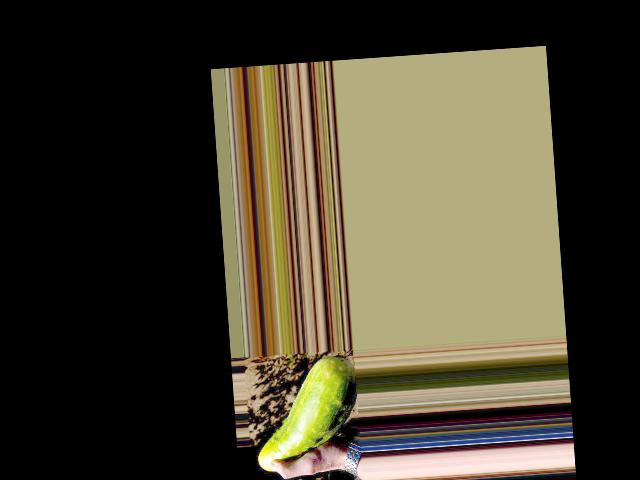cucumber: (251, 353, 363, 472)
